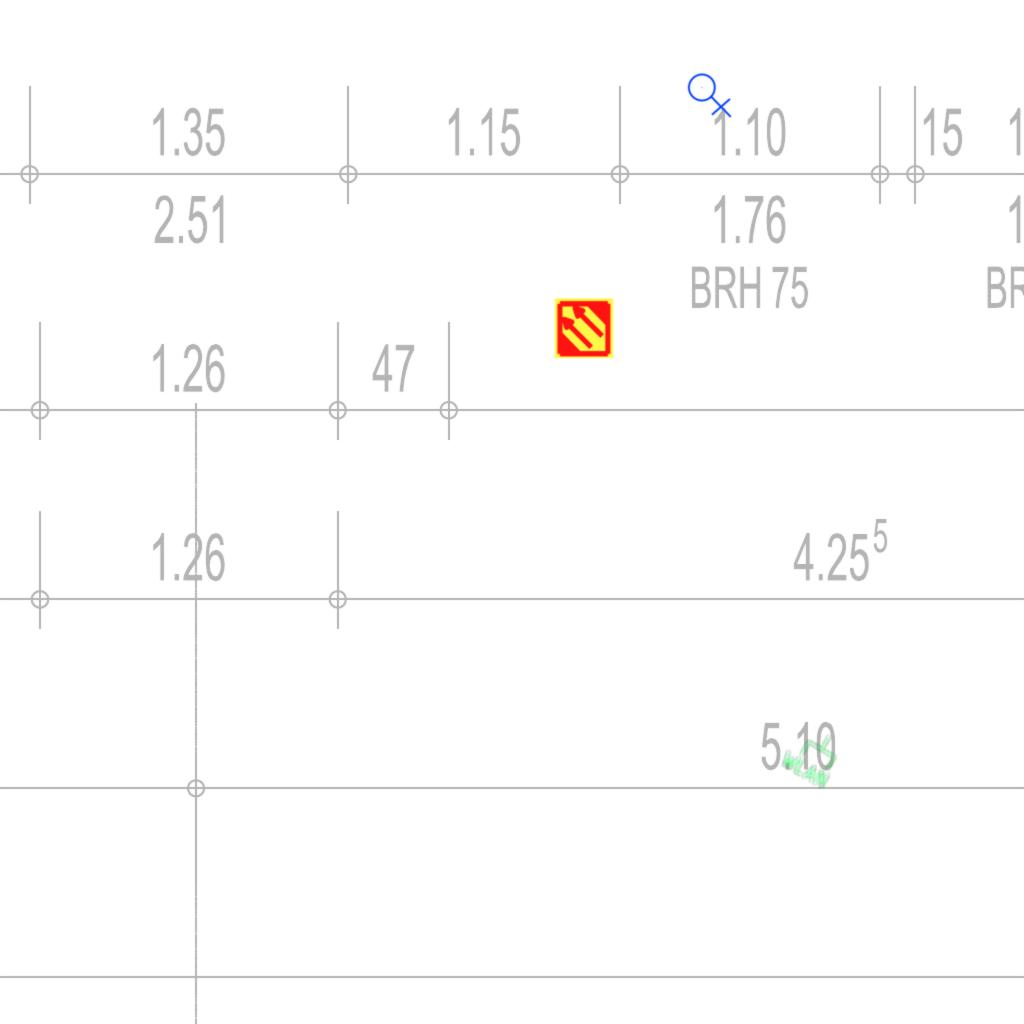ASR_Ansaugrauchmelder: (553, 297, 615, 359)
Elektroanschluss_allgemein_230V_Geraeteanschlussdose_230V: (687, 69, 734, 118)
WLAN: (777, 719, 849, 791)
